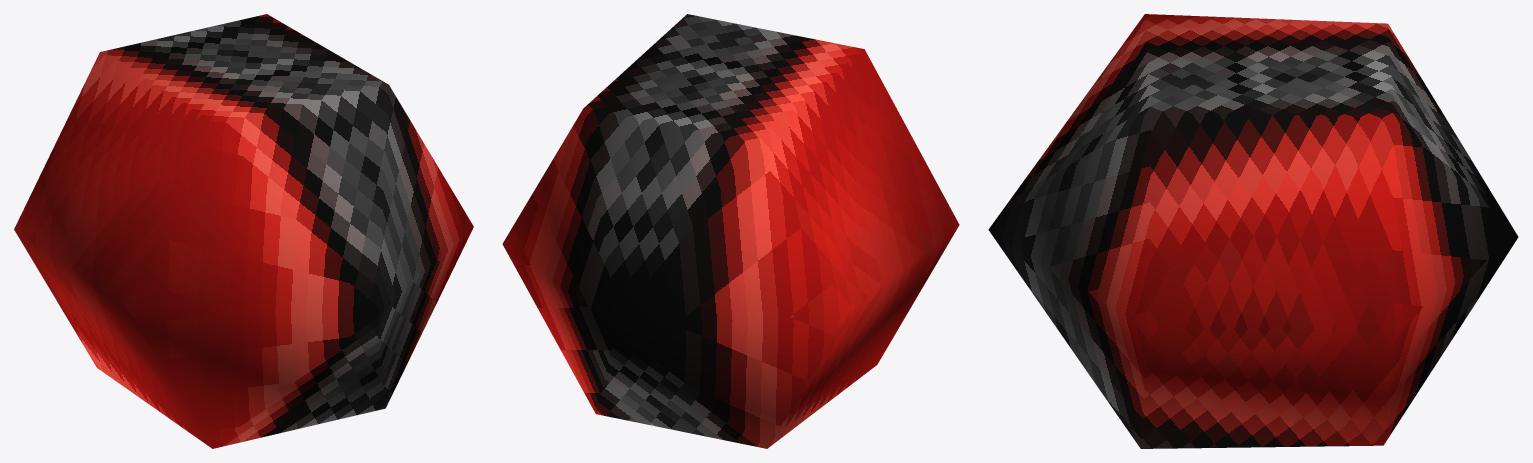
The model's file is bomblet.glb.
3 renders of one model, left to right at view 1: azimuth 30°, elevation 25°; view 2: azimuth 150°, elevation 25°; view 3: azimuth 270°, elevation 25°, orthographic. The views are drawn at different scales.
Visible parts, largest first — view 1: bomblet.mdl; view 2: bomblet.mdl; view 3: bomblet.mdl.
Part boxes in pixels (x1,y1,x2,y2): bomblet.mdl: [14, 14, 473, 448]; bomblet.mdl: [502, 14, 959, 448]; bomblet.mdl: [988, 14, 1518, 448].
Size of the model in its own units: 8.16 by 7.2 by 9.93.
2 materials, 2 textured.
